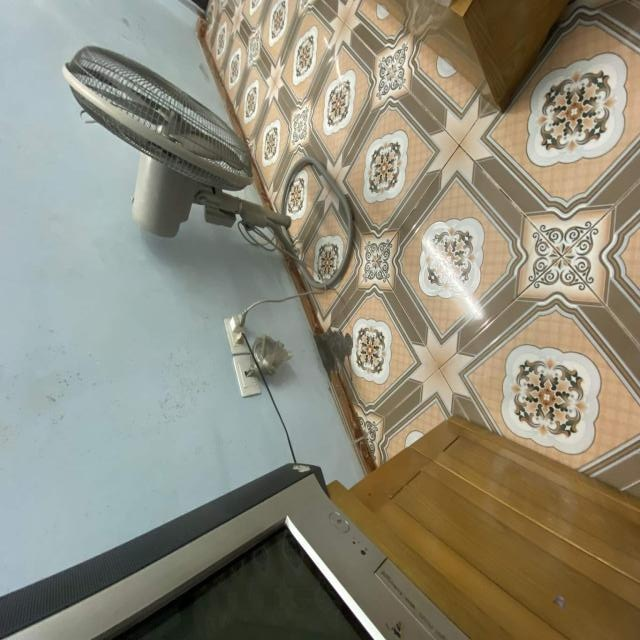outlet: (232, 355, 261, 398), (223, 316, 252, 355)
